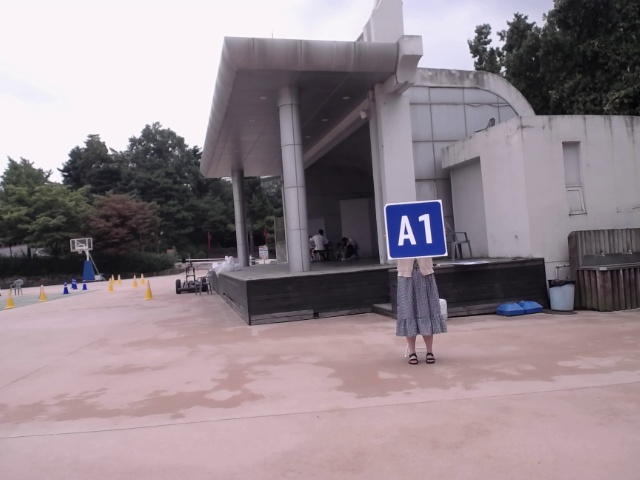delivery_a1: (385, 201, 447, 259)
